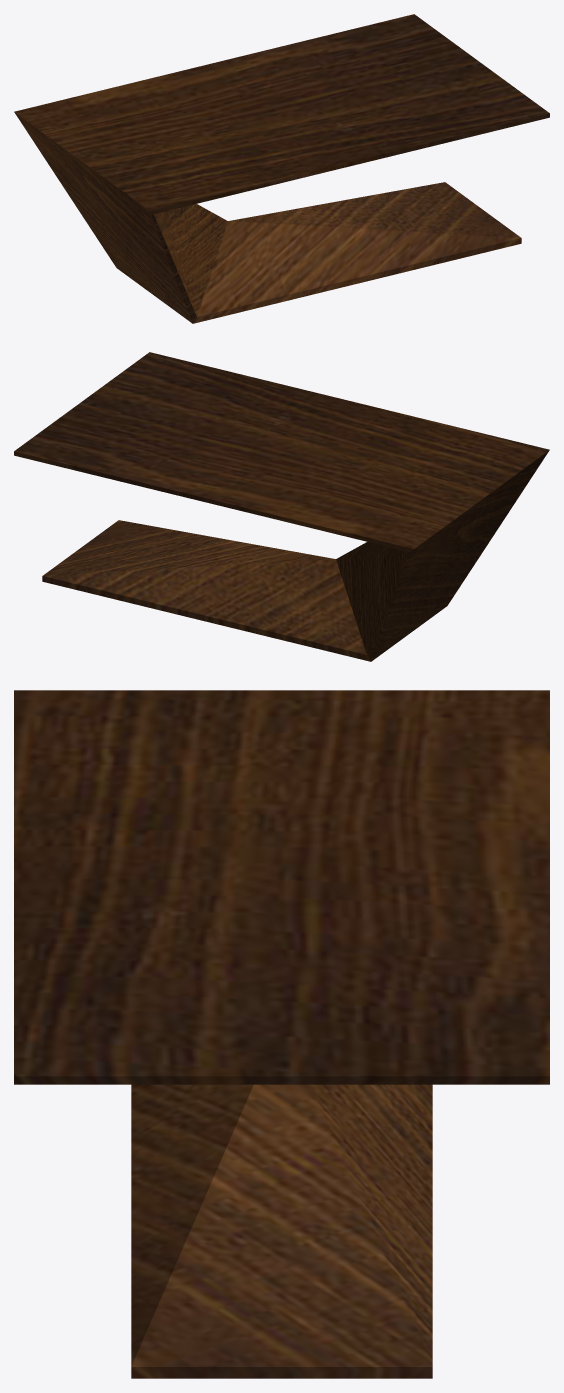
File: Table.obj
3 renders of one model, top to bottom at view 1: azimuth 30°, elevation 25°; view 2: azimuth 150°, elevation 25°; view 3: azimuth 270°, elevation 25°, orthographic. The views are drawn at different scales.
Parts seen in each view (by area): view 1: pCube6; view 2: pCube6; view 3: pCube6.
Boxes of the visible parts, bbox=[...] form: pCube6: bbox=[14, 14, 549, 323]; pCube6: bbox=[14, 352, 549, 661]; pCube6: bbox=[14, 690, 549, 1378].
Bounding box in the file's own units: 594 × 215 × 348.
1 material, 1 textured.
